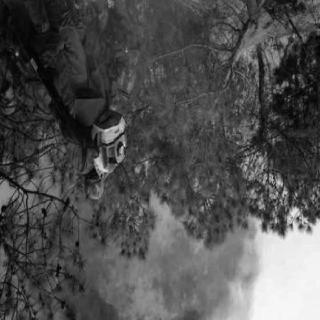Fire: (162, 172, 178, 188)
